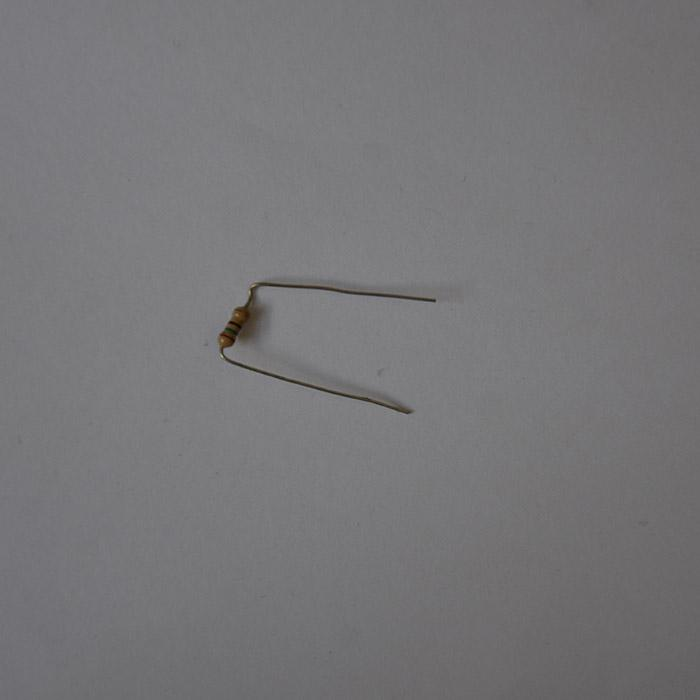resistor: (218, 304, 250, 349)
